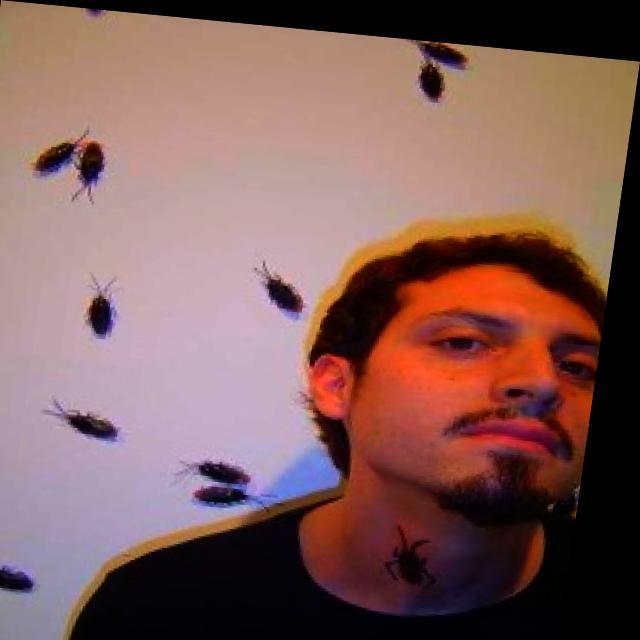cockroach: (372, 508, 438, 594), (46, 401, 140, 460), (77, 260, 131, 352), (242, 258, 326, 317), (0, 525, 49, 613), (30, 124, 97, 184), (388, 63, 459, 114), (70, 129, 119, 199), (176, 452, 267, 487), (414, 36, 488, 76), (175, 491, 262, 517)
